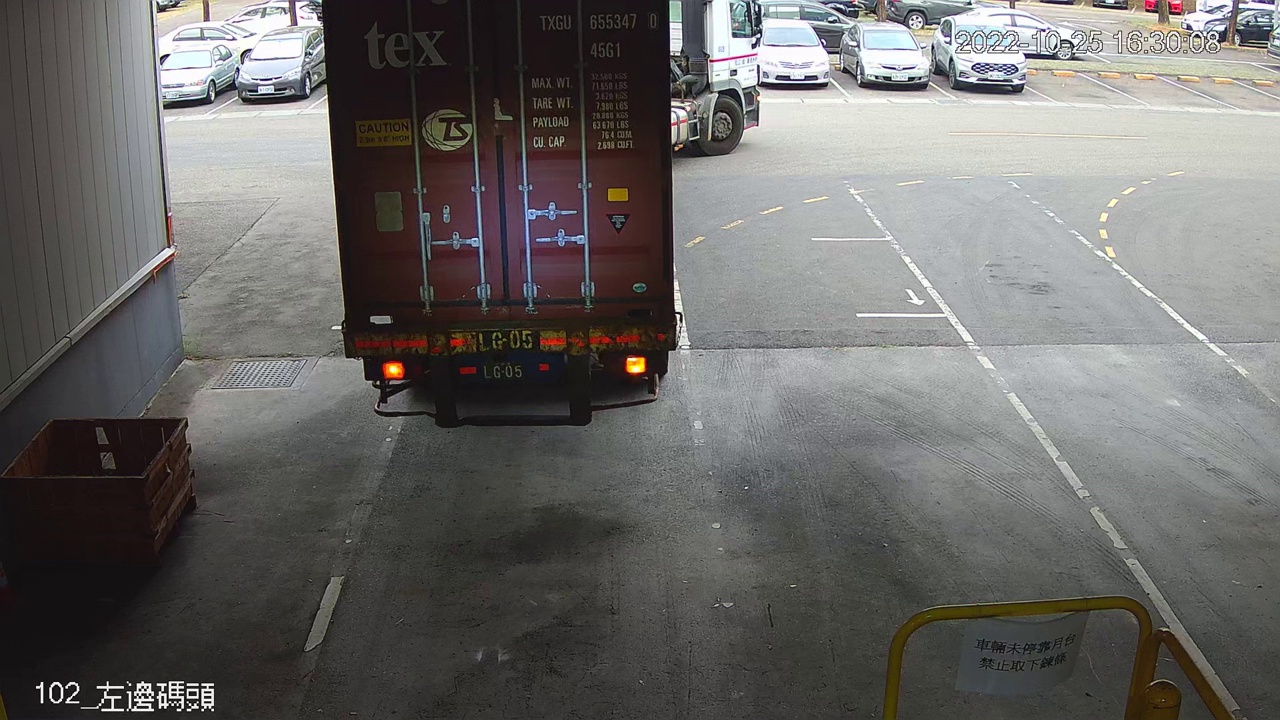container: (530, 7, 661, 66)
